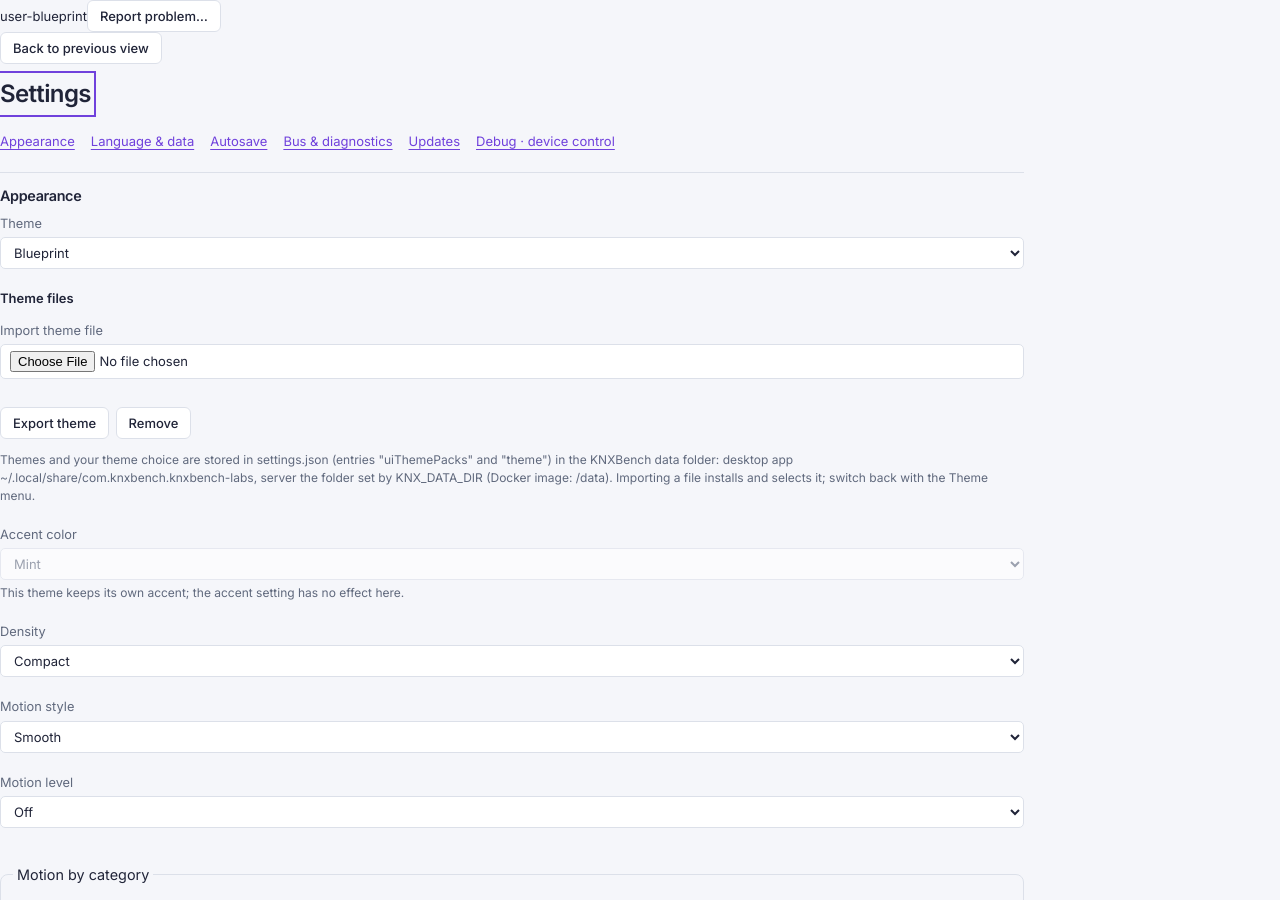
Scenario: Appearance theme files through the actual parent/runtime › keeps the painted pack intact when the actual report wizard reads the saved theme
Click the button "Report problem…" at x=154, y=16, box [87, 0, 221, 32]
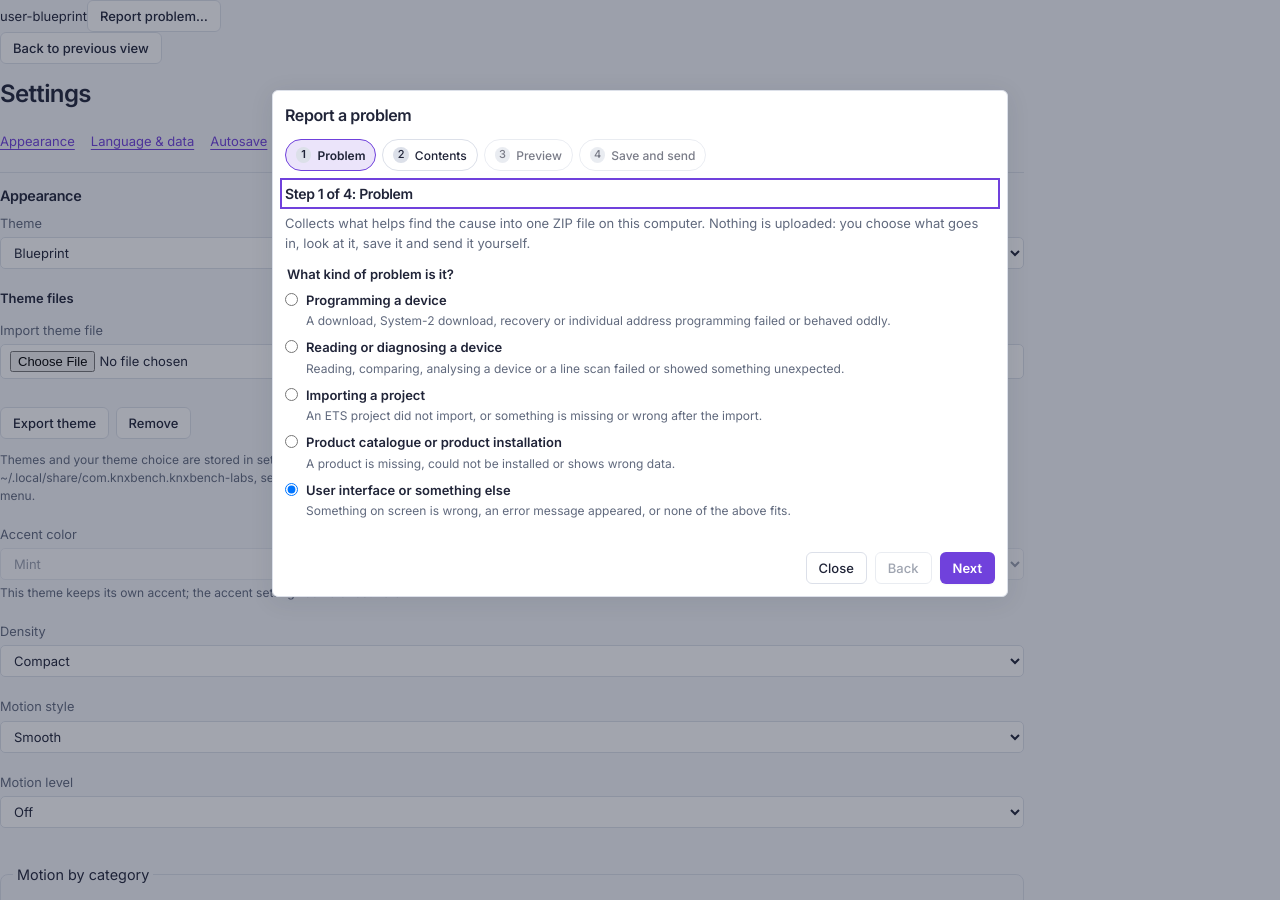
Expected: the dialog with class "report-problem" is shown, [272, 90, 1008, 597]
